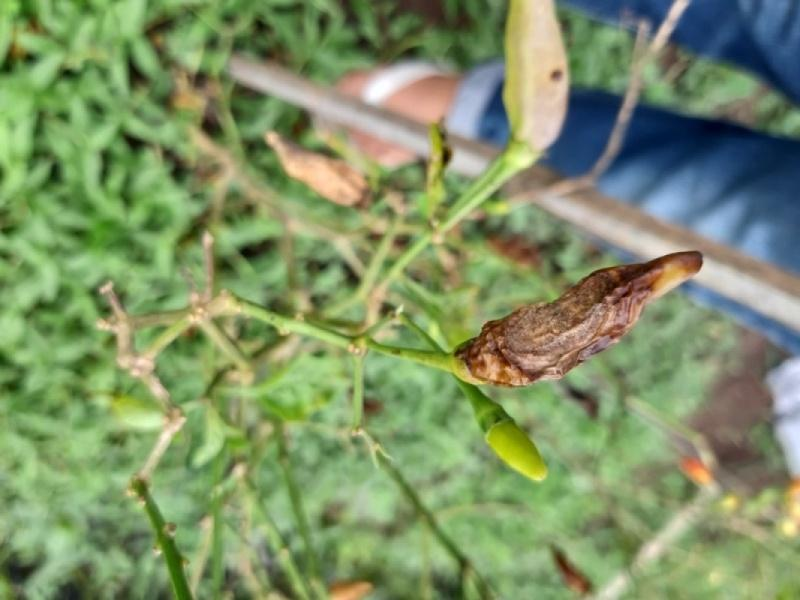antraknosa: (469, 250, 702, 391), (269, 131, 370, 206)
cabai_normal: (500, 1, 571, 150), (487, 420, 547, 482)
